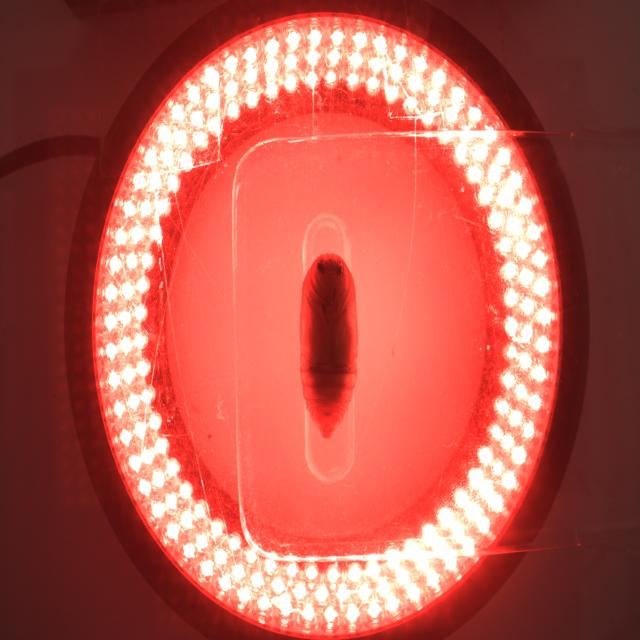male: (321, 411, 334, 419)
